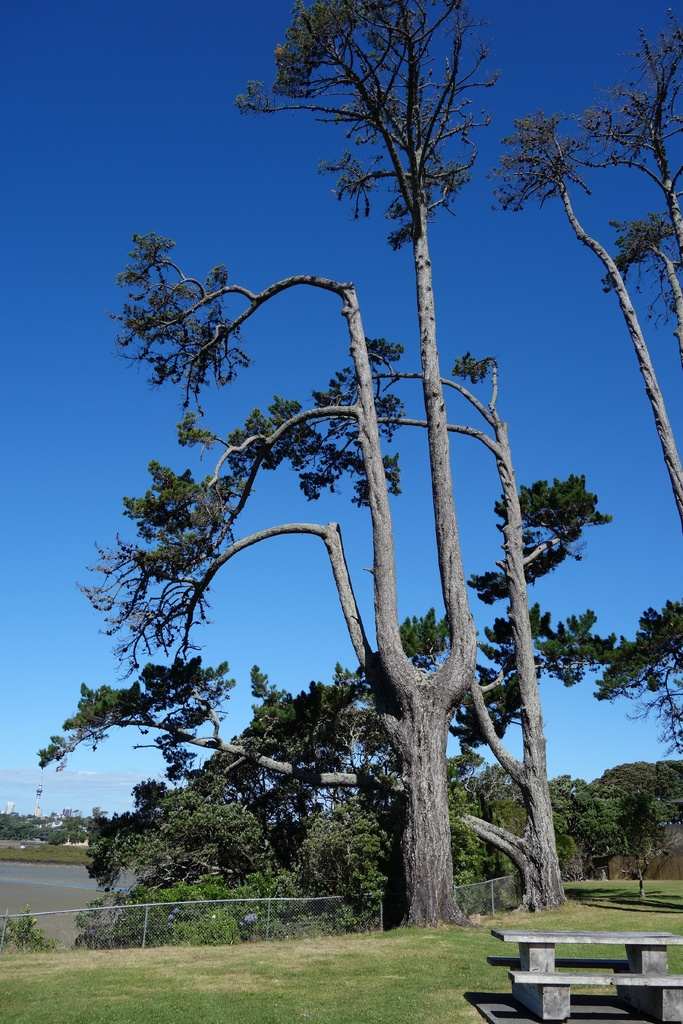Tree: (36, 0, 683, 928)
